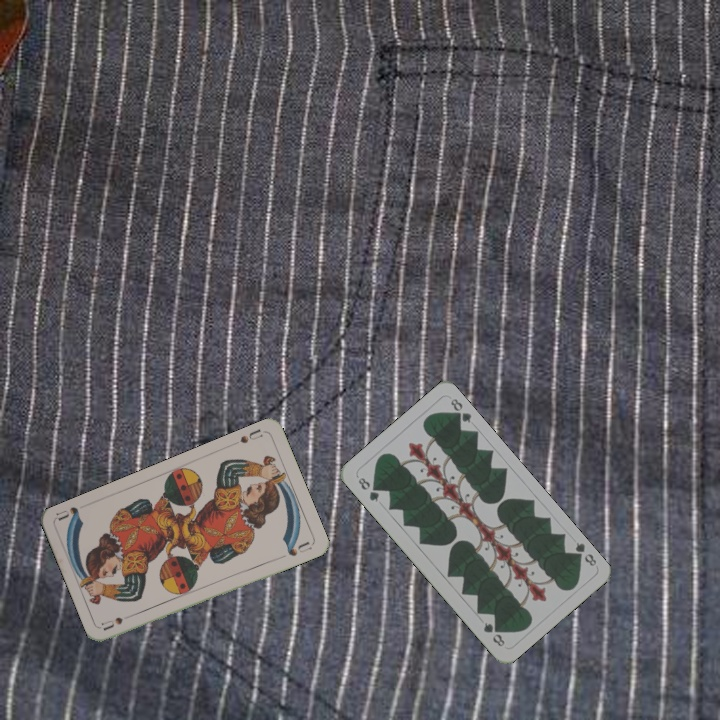G8: (568, 538, 599, 569), (354, 473, 382, 505)
SU: (228, 425, 267, 448), (98, 611, 138, 633)
